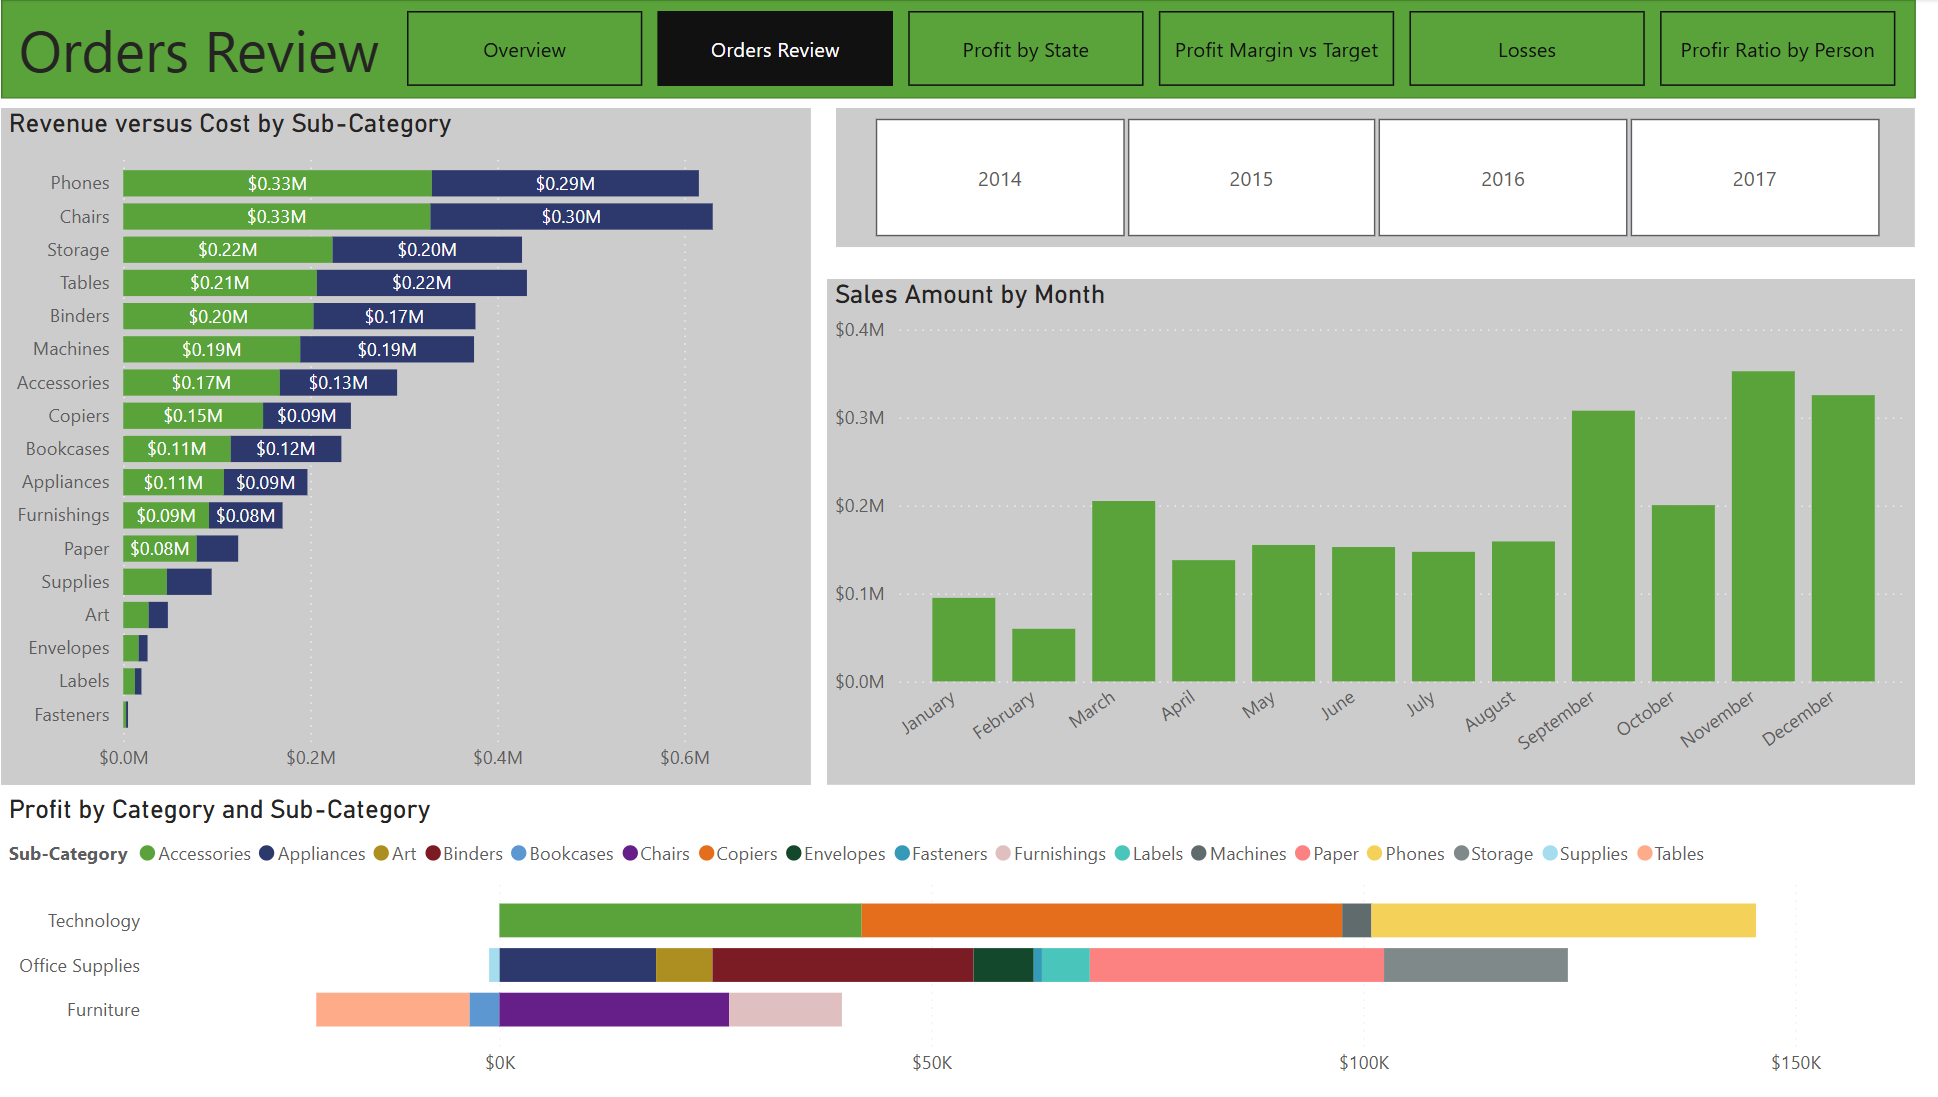

The page's visual inventory and layout, read from the dashboard file:
{"tool":"powerbi","page":{"name":"Orders Review","canvas":[1280,720],"ordinal":1},"visuals":[{"type":"slicer","fields":{"Values":["Orders.Order Date.Variation.Date Hierarchy.Year"]},"box":[557,71.2,706.5,90.6],"z":0},{"type":"columnChart","title":"Sales Amount by Month","fields":{"Y":["Sum(Orders.Sales Amount)"],"Category":["Orders.Order Date.Variation.Date Hierarchy.Month"]},"box":[551.2,183.3,712.2,331.3],"z":1000},{"type":"shape","box":[10.5,0,1253.2,65.4],"z":2000},{"type":"pageNavigator","box":[276.2,7.9,976.4,49.7],"z":3000},{"type":"textbox","box":[17,2.6,251.9,62.8],"z":4000},{"type":"barChart","title":"Revenue versus Cost by Sub-Category","fields":{"Category":["Products.Sub-Category"],"Y":["Sum(Orders.Sales Amount)","Sum(Orders.COGS)"]},"box":[10.8,71.2,530.4,443.4],"z":5000},{"type":"barChart","title":"Profit by Category and Sub-Category","fields":{"Y":["Sum(Orders.Profit)"],"Category":["Products.Category"],"Series":["Products.Sub-Category"]},"box":[10.8,520.3,1252.7,194],"z":6000}]}

Visuals, with their boxes in screenshot pixels (x1, y1, x2, y2), scaled from the page's 1280x720 canvas onto the 1938x1097 screenshot:
slicer - Orders.Order Date.Variation.Date Hierarchy.Year: 843/108/1913/247
"Sales Amount by Month" columnChart: 835/279/1913/784
shape: 16/0/1913/100
pageNavigator: 418/12/1897/88
textbox: 26/4/407/100
"Revenue versus Cost by Sub-Category" barChart: 16/108/819/784
"Profit by Category and Sub-Category" barChart: 16/793/1913/1088
